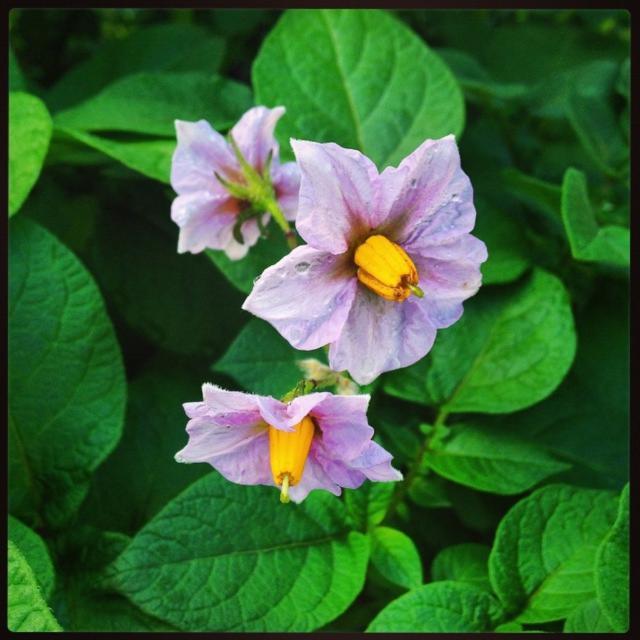Flower: (242, 125, 492, 378), (176, 380, 408, 508), (172, 104, 298, 266)
